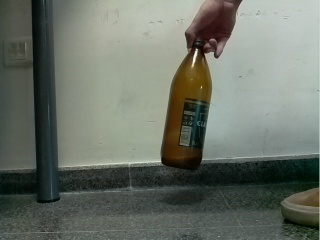pote cristal: (160, 38, 213, 171)
